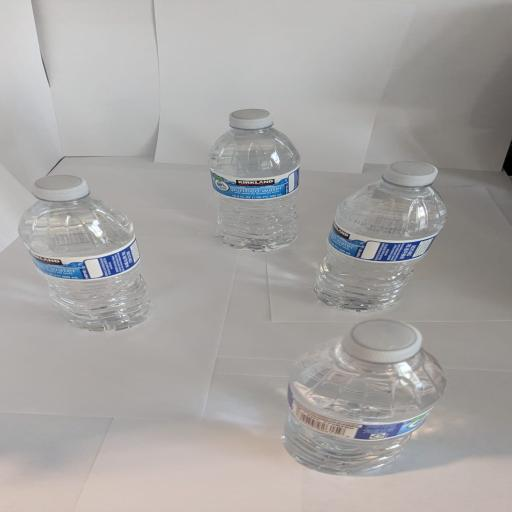waterbottle: (283, 320, 446, 474), (19, 176, 151, 330), (315, 162, 446, 311), (210, 109, 299, 251)
